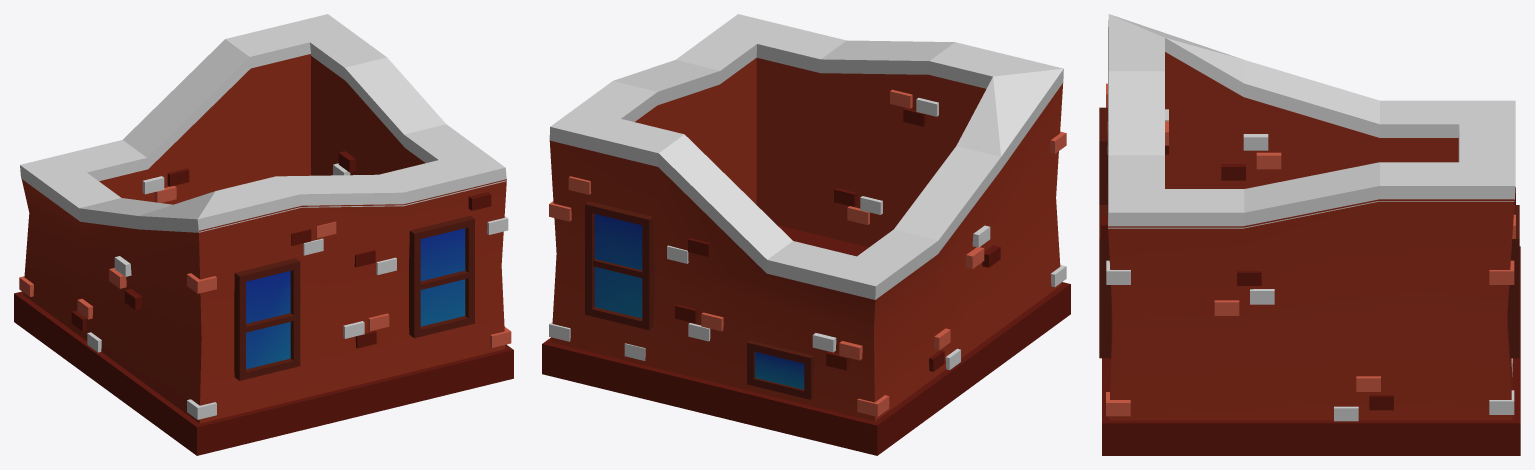
The model's file is House3.FBX.
3 views of the same model, side by side, from view 1: azimuth 30°, elevation 25°; view 2: azimuth 150°, elevation 25°; view 3: azimuth 270°, elevation 25° (orthographic). The views are drawn at different scales.
Visible parts, largest first — view 1: House3; view 2: House3; view 3: House3.
Boxes of the visible parts, x1,y1,x2,y2 form: House3: (14,14,513,455); House3: (542,14,1070,455); House3: (1099,14,1520,455).
Bounding box in the file's own units: 82.32 × 57.98 × 82.87.
